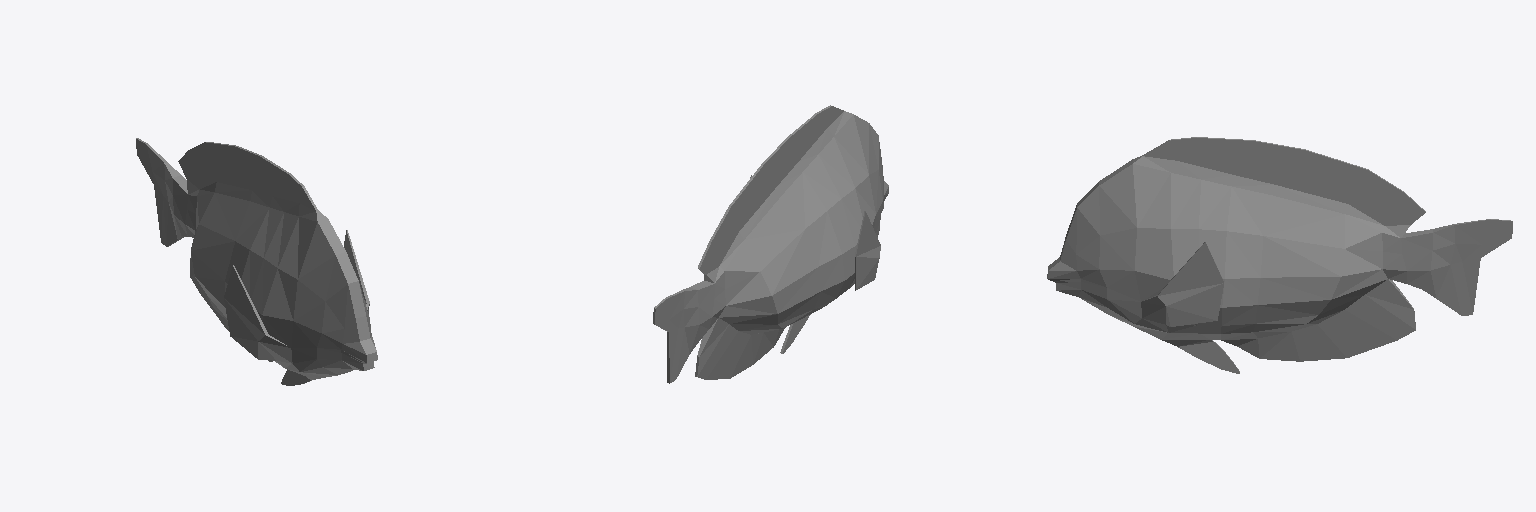
The model's file is TropicalFish04.obj.
3 views of the same model, side by side, from view 1: azimuth 30°, elevation 25°; view 2: azimuth 150°, elevation 25°; view 3: azimuth 270°, elevation 25° (orthographic).
Parts seen in each view (by area): view 1: TropicalFish04; view 2: TropicalFish04; view 3: TropicalFish04.
Boxes of the visible parts, x1=… form: TropicalFish04: x1=136, y1=138, x2=377, y2=385; TropicalFish04: x1=653, y1=105, x2=888, y2=383; TropicalFish04: x1=1047, y1=137, x2=1512, y2=373.
Bounding box in the file's own units: 1.56 × 2.83 × 5.21.